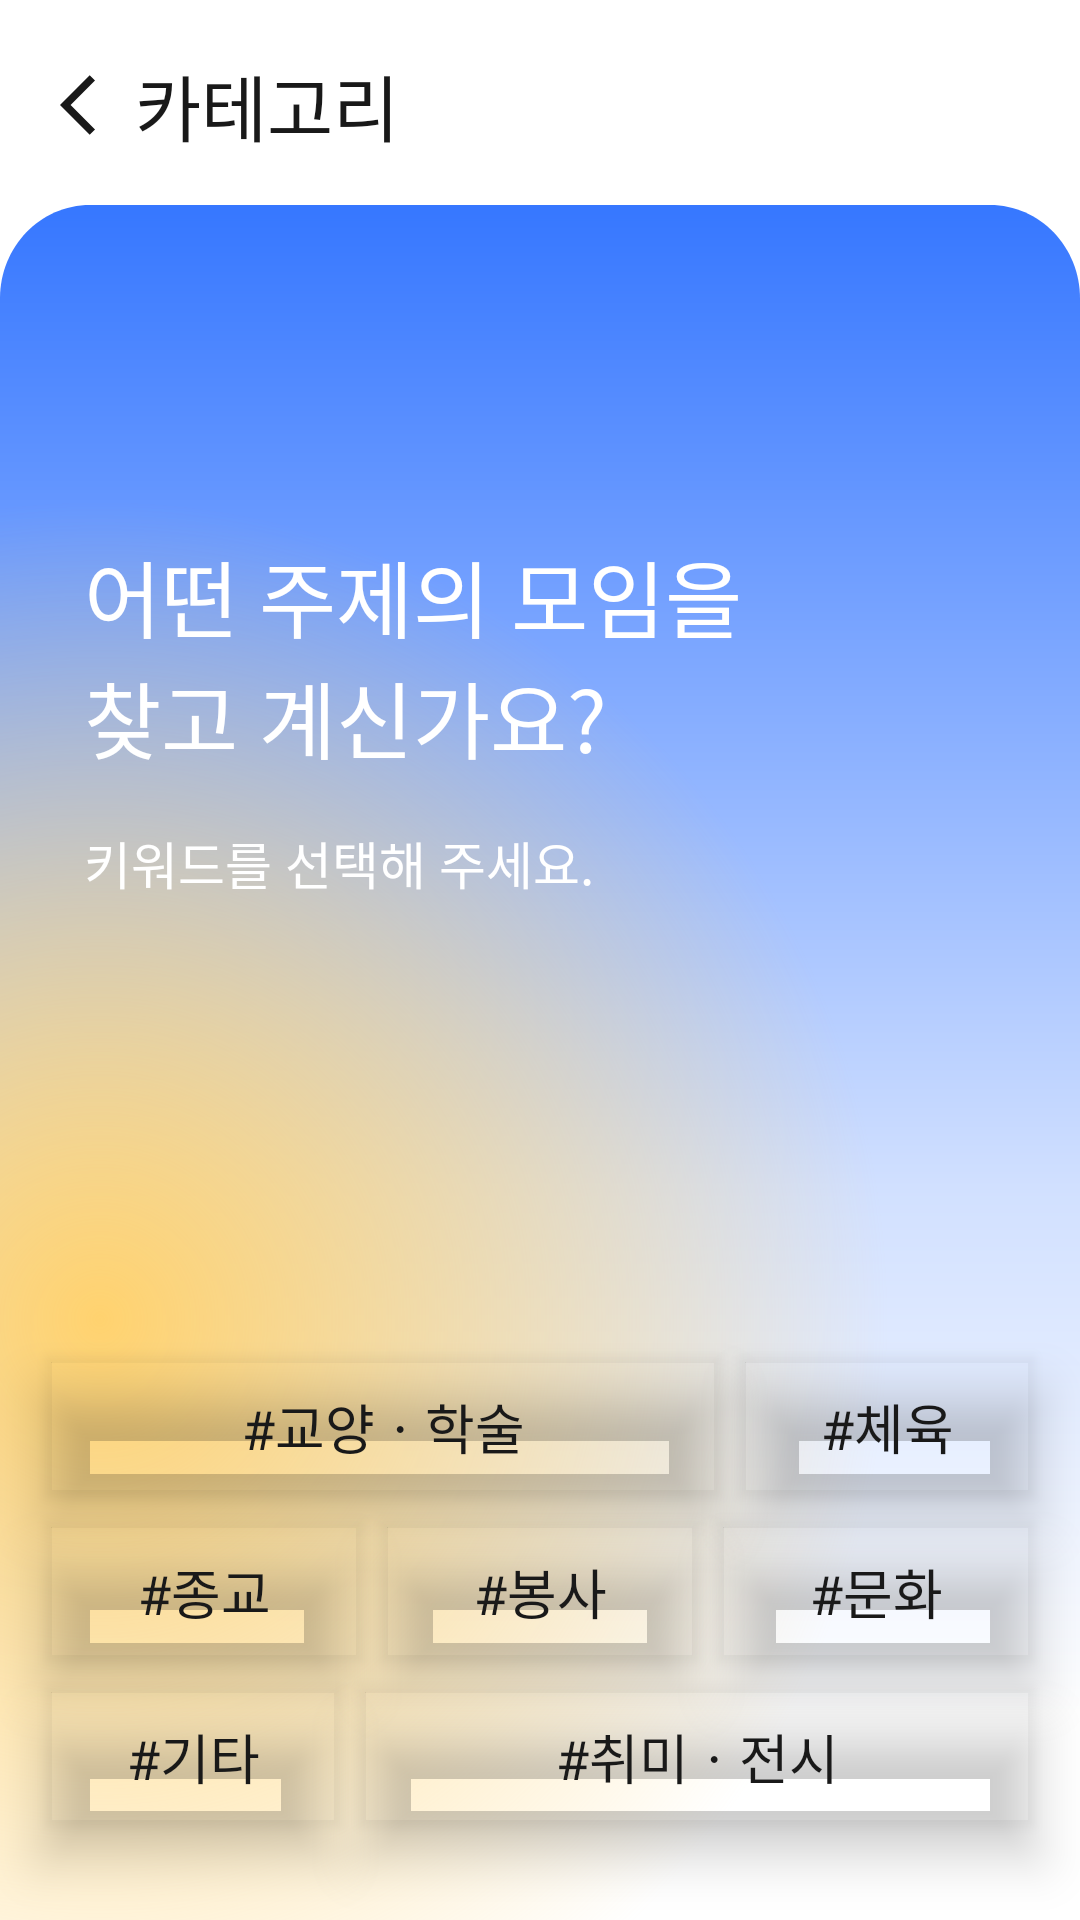

Locate icon controls on the screen. Image size 1080 x 1920, boxes as region(x1, y1, x2, y2).
arrow back: region(60, 75, 95, 135)
